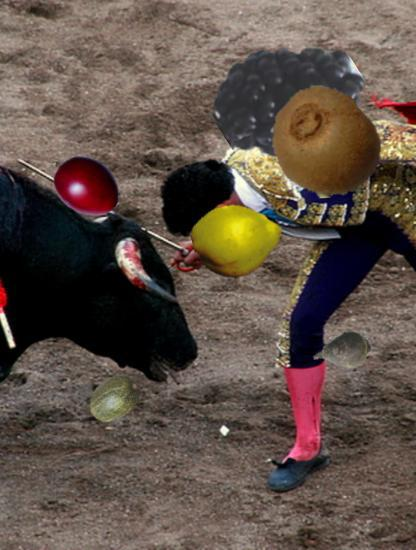Beetroot: (312, 320, 377, 385)
Kiwi: (270, 85, 384, 199)
Melon: (89, 373, 144, 428)
Mulberry: (215, 26, 365, 176)
Passion: (271, 61, 341, 131)
Quince: (193, 195, 284, 286)
Tamarillo: (48, 148, 123, 223)
